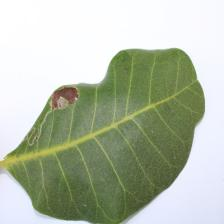leaf miner: (48, 84, 83, 117)
